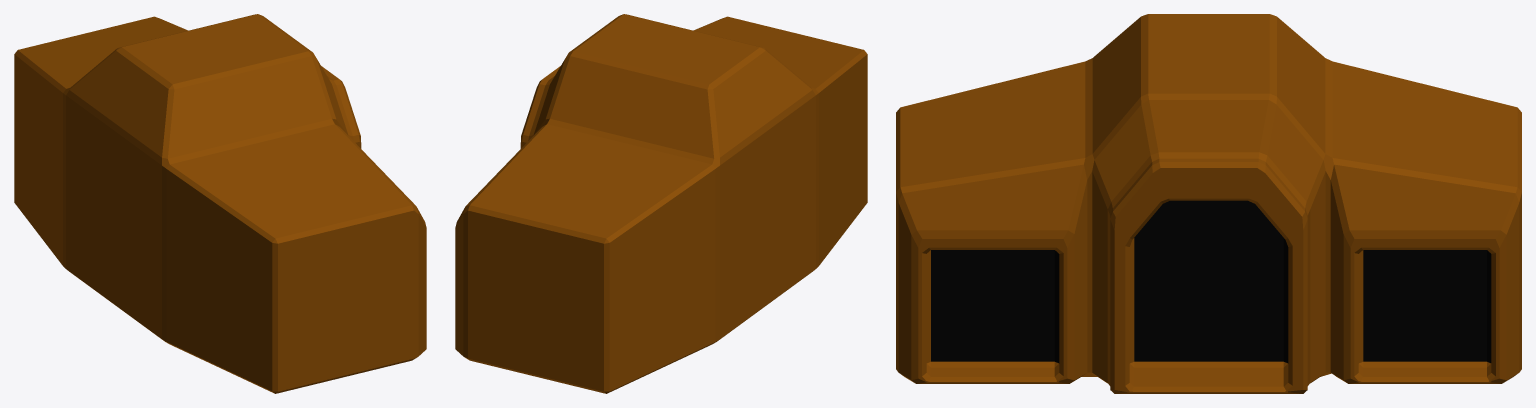
File: enemy_base.fbx
The picture shows the model from 3 angles, left to right: view 1: azimuth 30°, elevation 25°; view 2: azimuth 150°, elevation 25°; view 3: azimuth 270°, elevation 25°; orthographic projection. The views are drawn at different scales.
Visible parts, largest first — view 1: Cube; view 2: Cube; view 3: Cube.
Boxes of the visible parts, x1,y1,x2,y2 form: Cube: (14, 14, 426, 393); Cube: (455, 14, 867, 393); Cube: (896, 14, 1521, 393).
Bounding box in the file's own units: 241 × 259 × 525.
